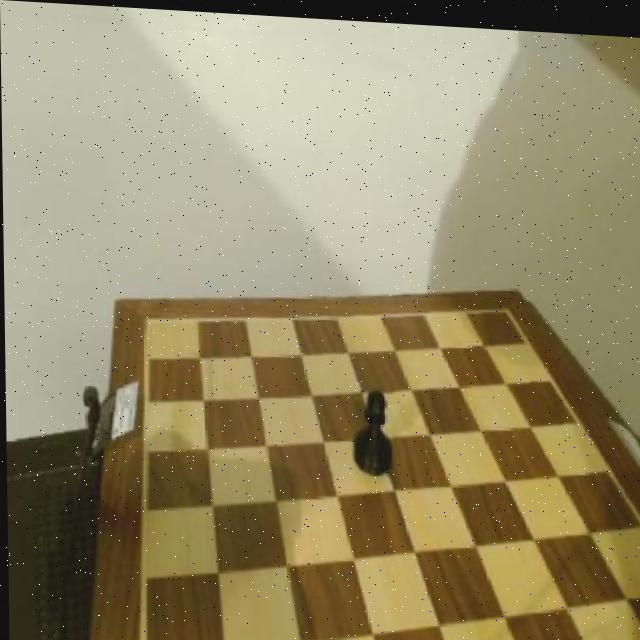black-knight: (346, 376, 393, 473)
